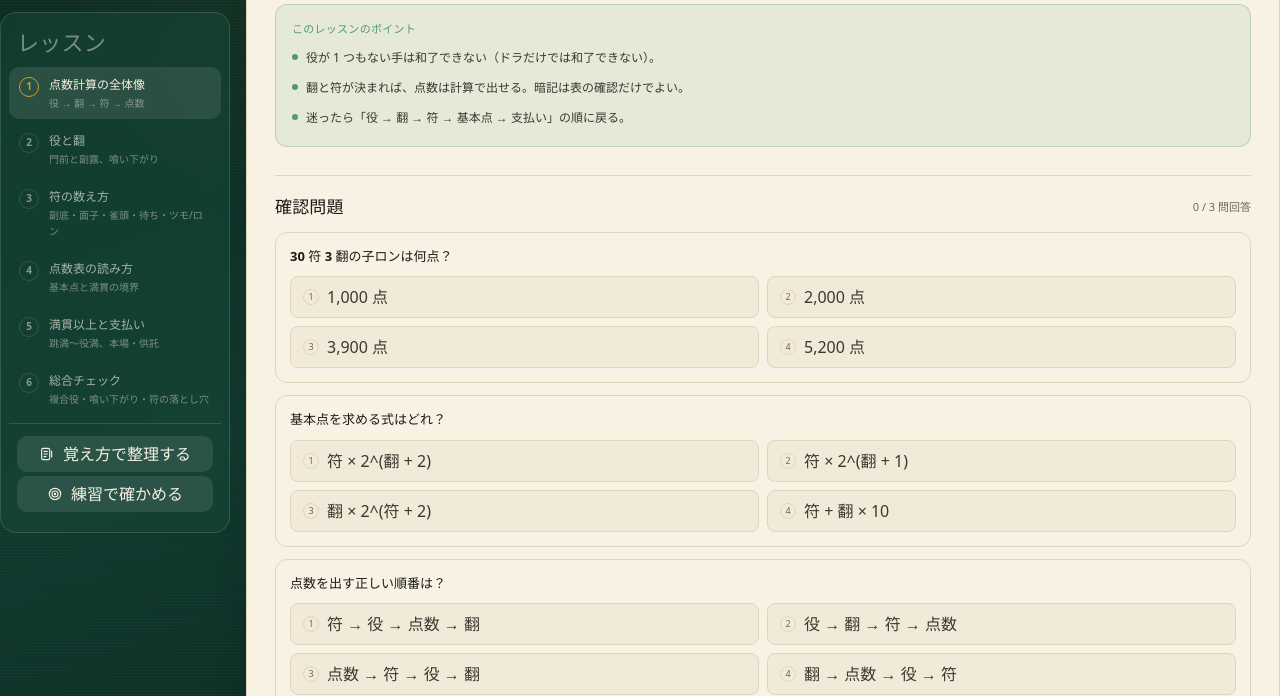
Scenario: 学習 › 誤答があると完了にならず、正答数が保存される
(page scrolled)
Click the button "4 5,200 点" at (835, 347), box [767, 326, 1236, 368]
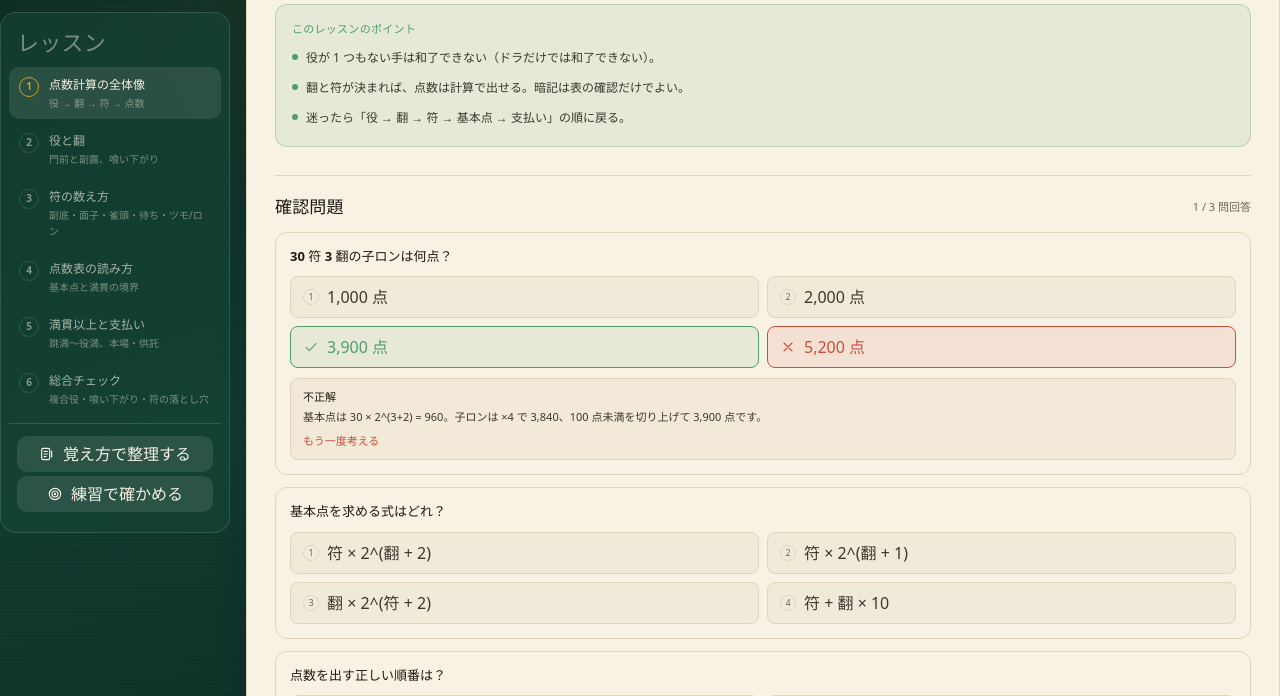
Click the button "2 符 × 2^(翻 + 1)" at (856, 552), box [767, 532, 1236, 574]
(page scrolled)
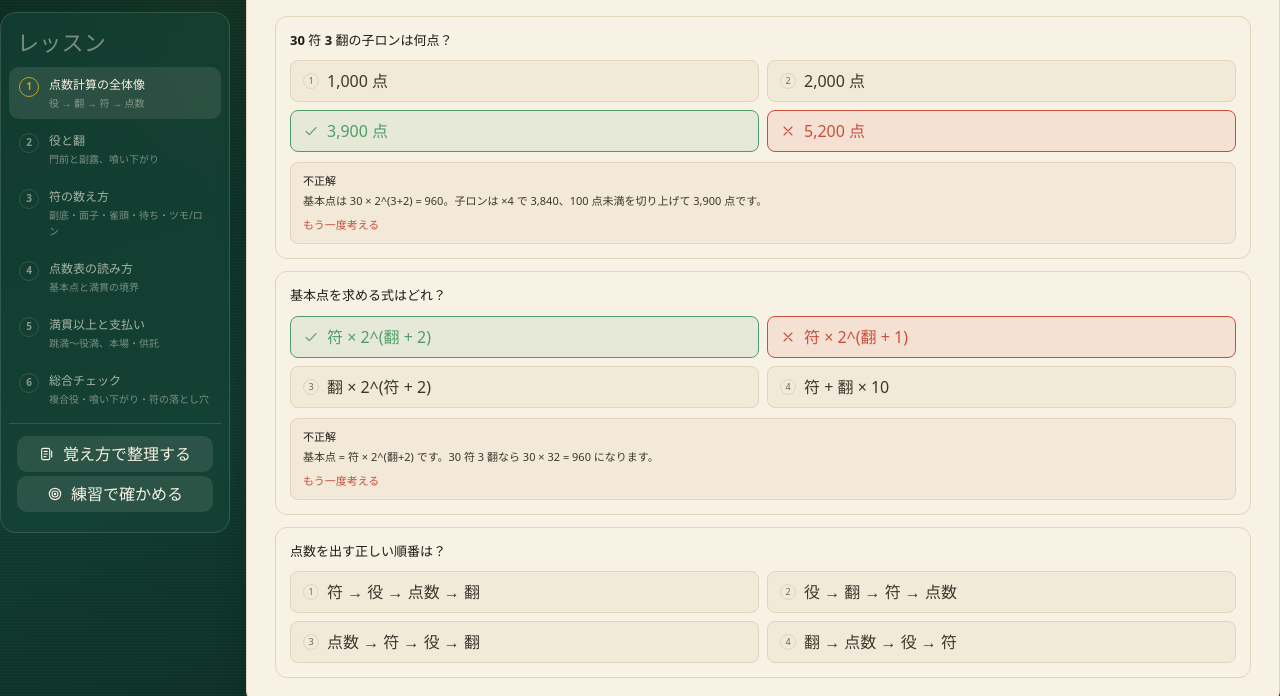
Click the button "3 点数 → 符 → 役 → 翻" at (403, 642), box [290, 621, 759, 663]
(page scrolled)
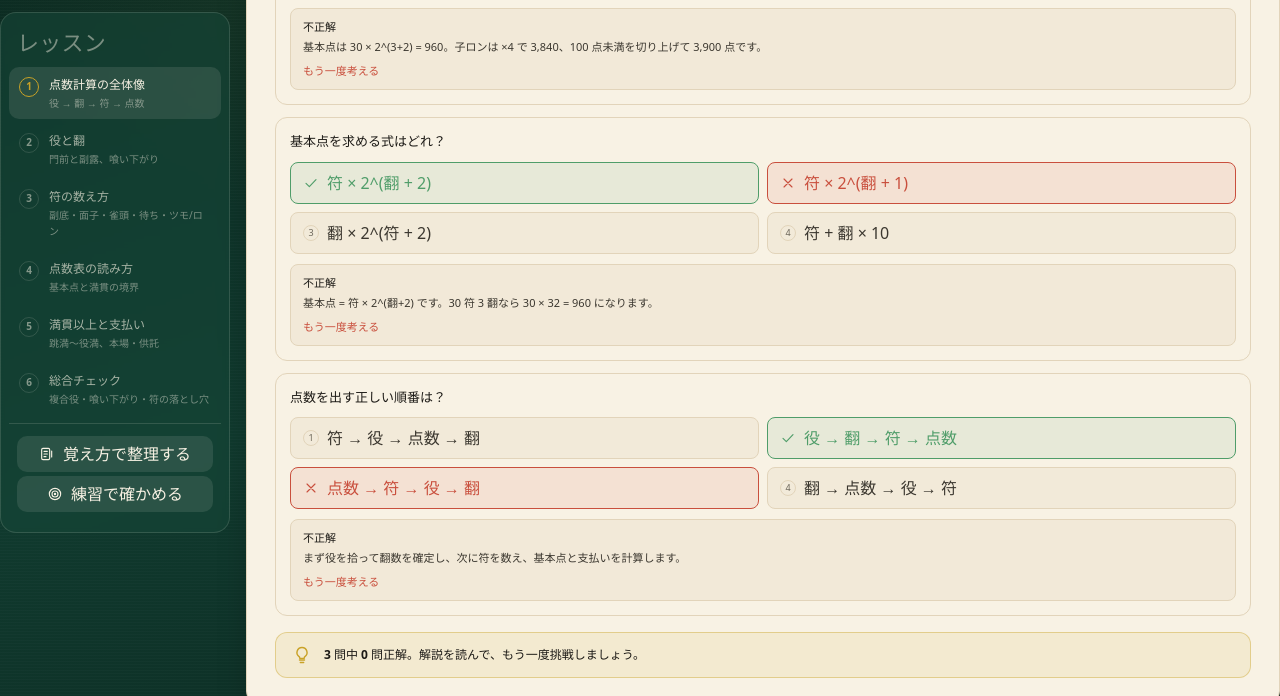
Result: the text "3 問中 0 問正解。解説を読んで、もう一度挑戦しましょう。" is shown at [324, 646, 645, 664]
